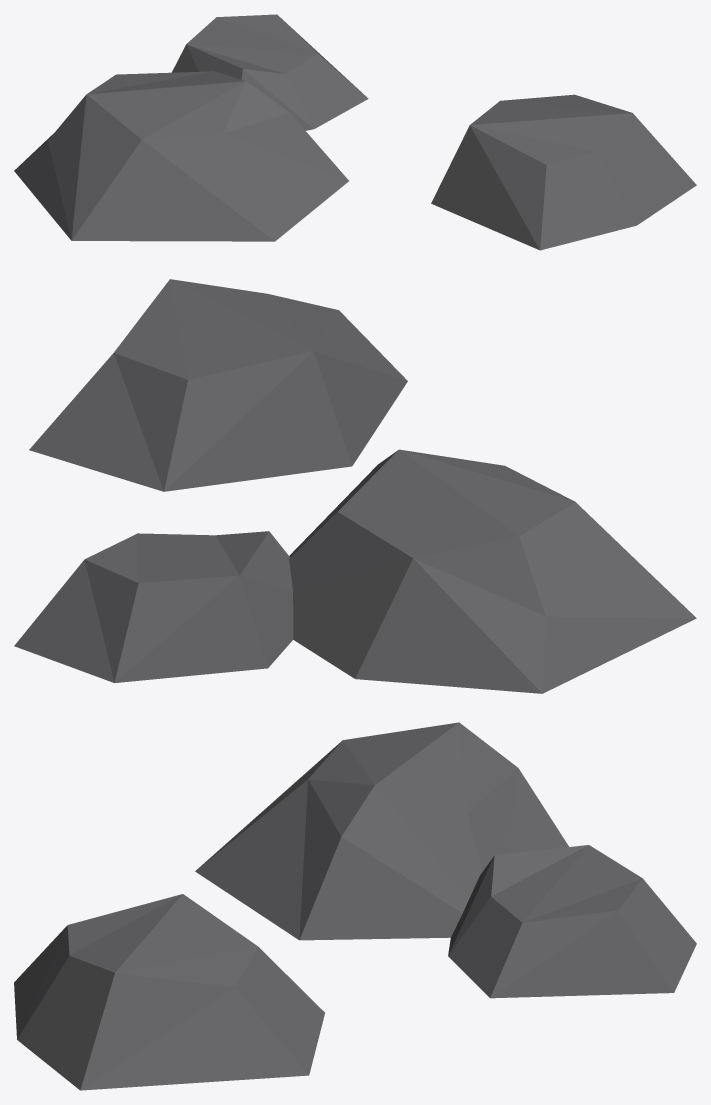
File: SM_Env_Rocks_03.glb
The picture shows the model from 3 angles, top to bottom: view 1: azimuth 30°, elevation 25°; view 2: azimuth 150°, elevation 25°; view 3: azimuth 270°, elevation 25°; orthographic projection. The views are drawn at different scales.
Visible parts, largest first — view 1: SM_Env_Rocks_03; view 2: SM_Env_Rocks_03; view 3: SM_Env_Rocks_03.
Boxes of the visible parts, x1=… form: SM_Env_Rocks_03: x1=14, y1=14, x2=696, y2=250; SM_Env_Rocks_03: x1=14, y1=279, x2=696, y2=693; SM_Env_Rocks_03: x1=14, y1=722, x2=696, y2=1090.
Bounding box in the file's own units: 0.01 × 0.00172 × 0.0094.
1 material, 1 textured.
